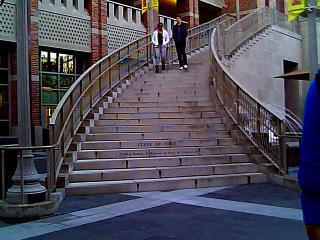Escaleras: (71, 62, 268, 190), (168, 21, 271, 62)
